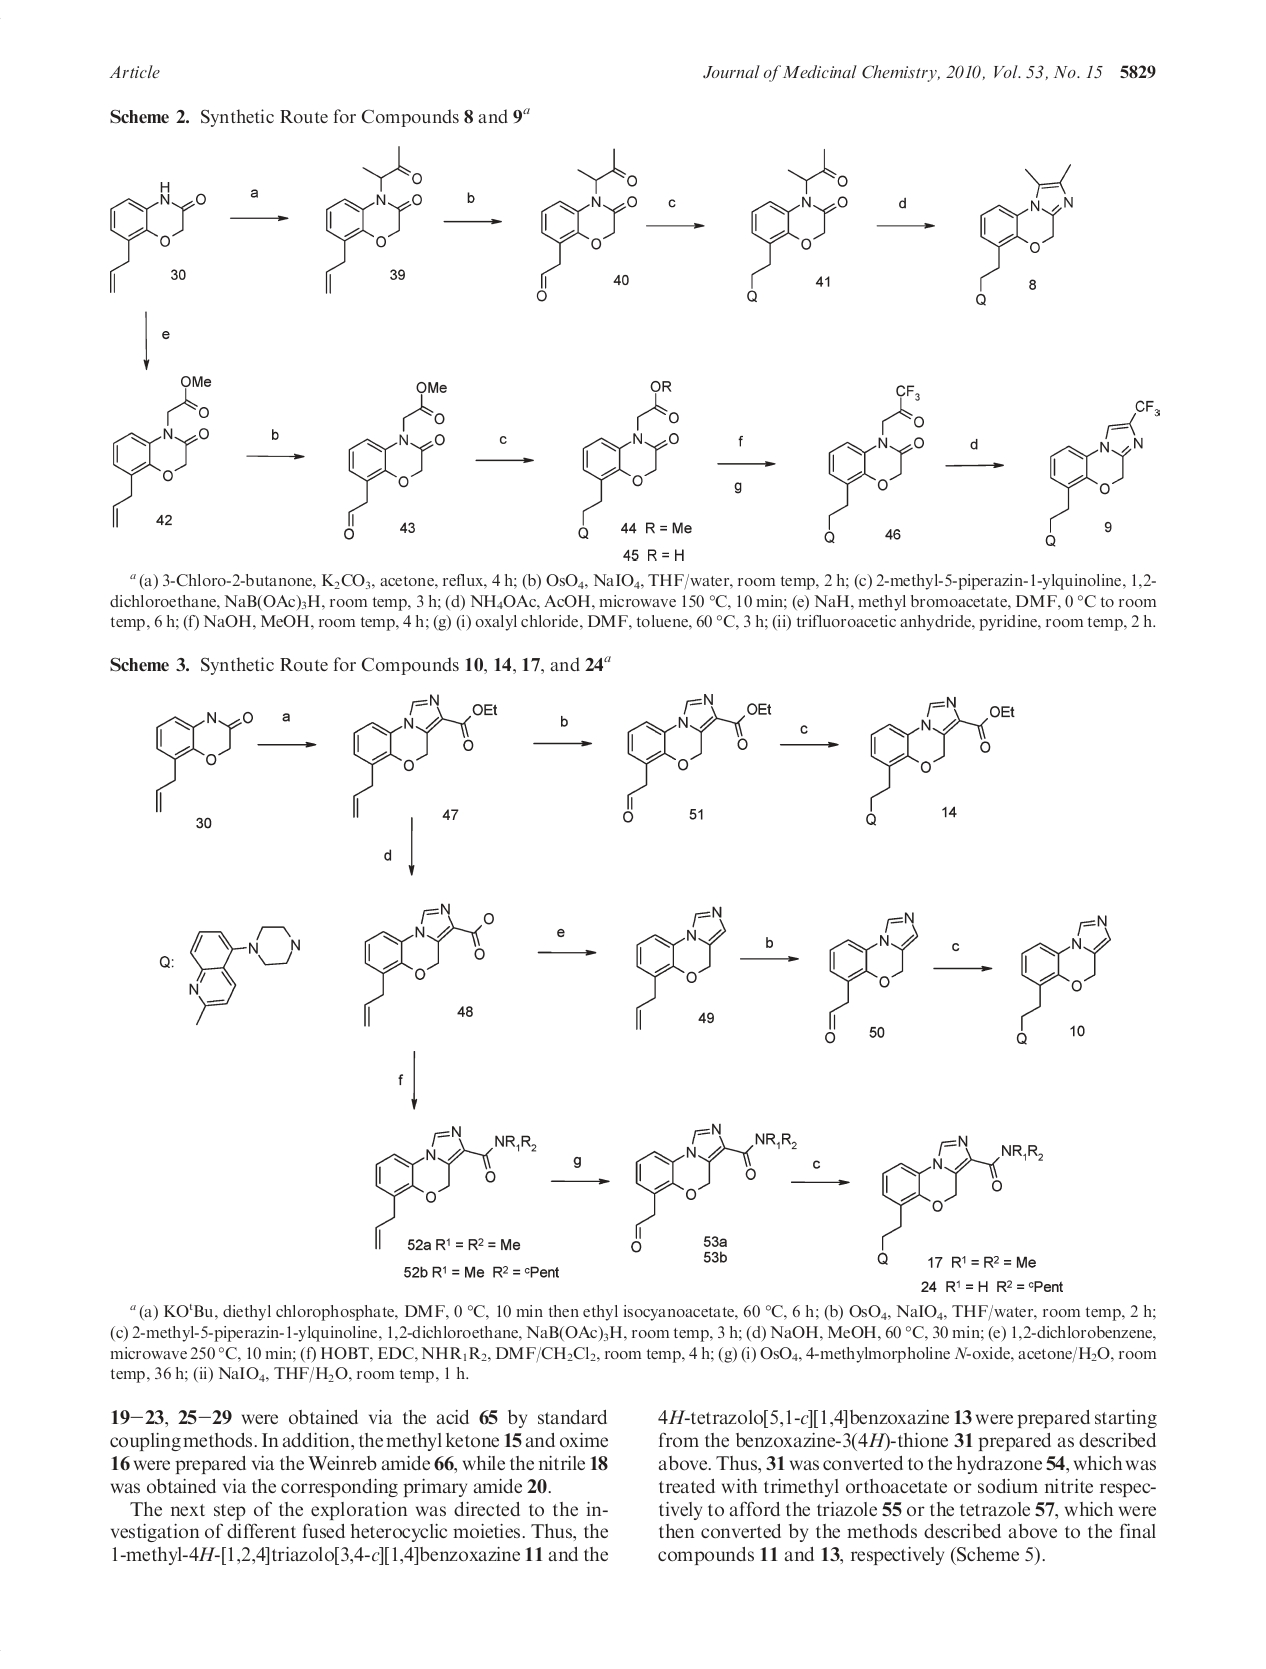exist_molecular: (875, 1130, 1047, 1267), (630, 1122, 801, 1251), (371, 1122, 540, 1250), (617, 692, 774, 825), (860, 694, 1017, 826), (348, 692, 499, 822), (339, 376, 449, 543), (1043, 396, 1161, 551), (574, 374, 682, 543), (356, 902, 495, 1031), (821, 379, 926, 547), (106, 372, 217, 531), (535, 148, 641, 305), (743, 146, 848, 305), (971, 158, 1077, 307), (324, 141, 424, 297), (819, 908, 926, 1047), (1015, 910, 1113, 1047), (630, 902, 727, 1032), (104, 180, 209, 297), (152, 700, 257, 814), (188, 922, 302, 1027)
